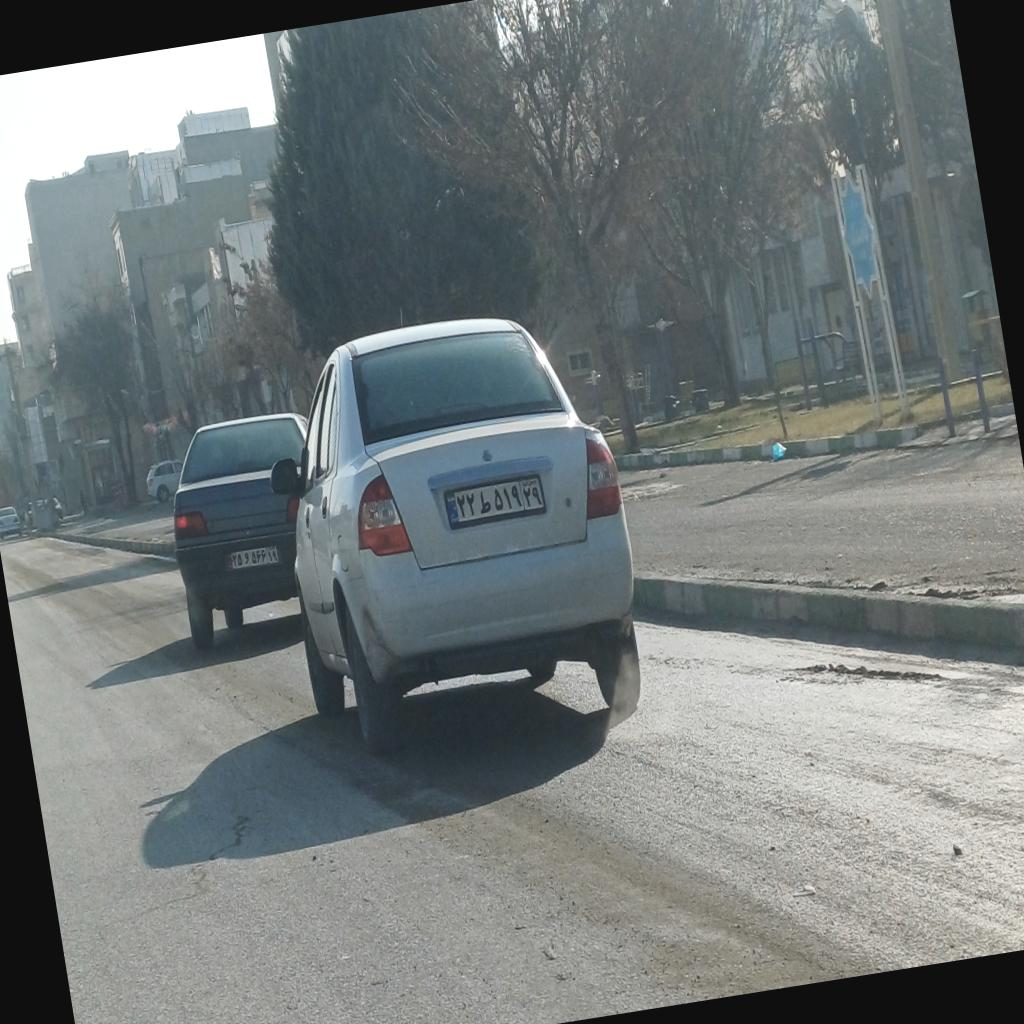Plates: (442, 474, 547, 526), (224, 542, 280, 572)
